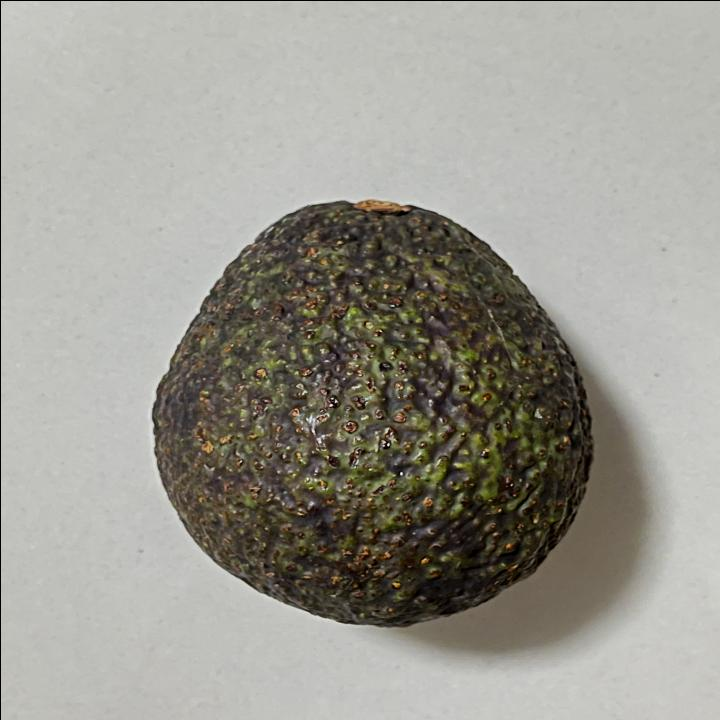Level1: (136, 185, 604, 636)
